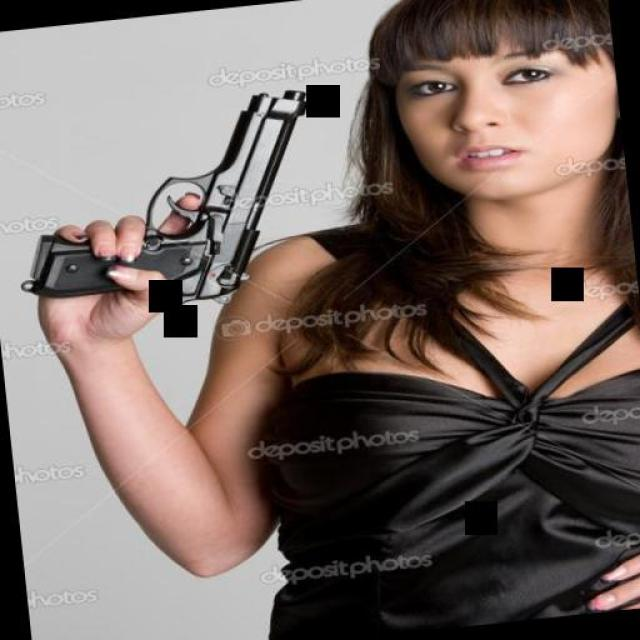gun: (5, 82, 329, 326)
